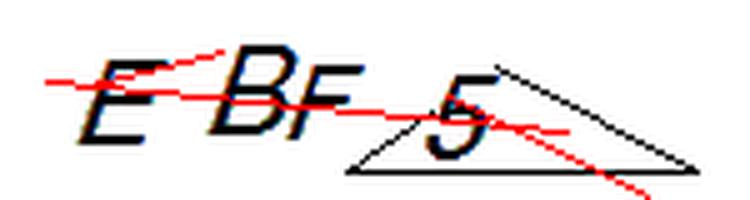5: (418, 65, 510, 167)
B: (200, 36, 304, 141)
E: (65, 45, 175, 162)
F: (282, 56, 375, 152)
